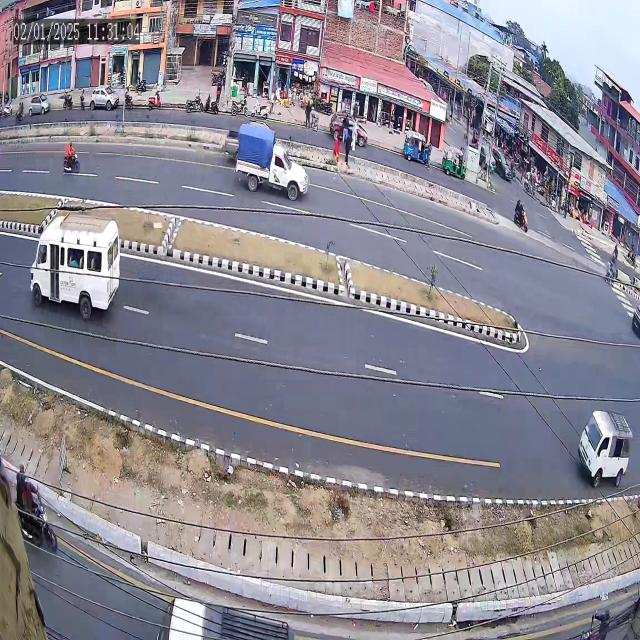motorcycle: (55, 134, 87, 187), (510, 183, 530, 243)
van: (570, 392, 640, 498)
